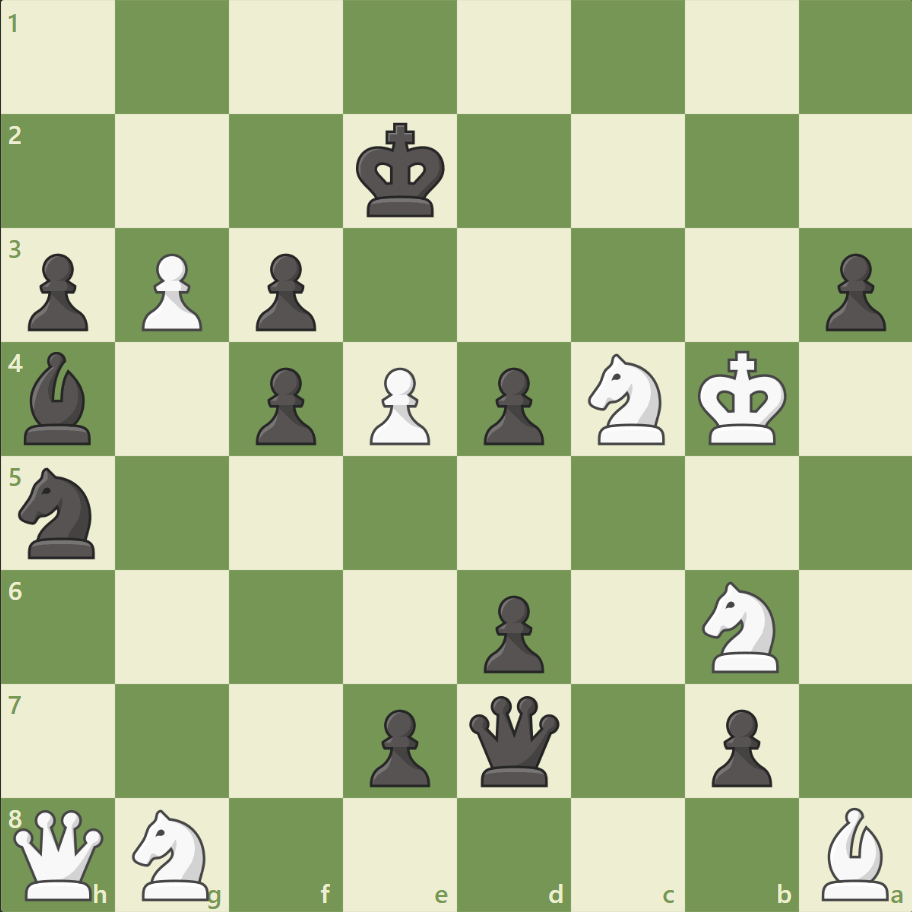B: (812, 801, 896, 904)
K: (692, 344, 792, 452)
N: (124, 802, 222, 904), (692, 575, 789, 677), (579, 348, 676, 450)
P: (133, 246, 208, 337), (361, 359, 435, 450)
Q: (10, 804, 109, 903)
b: (17, 347, 101, 449)
k: (351, 117, 451, 225)
n: (11, 461, 108, 564)
p: (701, 700, 776, 791), (474, 586, 549, 677), (474, 359, 549, 450), (247, 359, 322, 450), (247, 246, 322, 337), (20, 246, 95, 337), (361, 700, 435, 791), (815, 246, 889, 337)
q: (464, 690, 563, 789)
